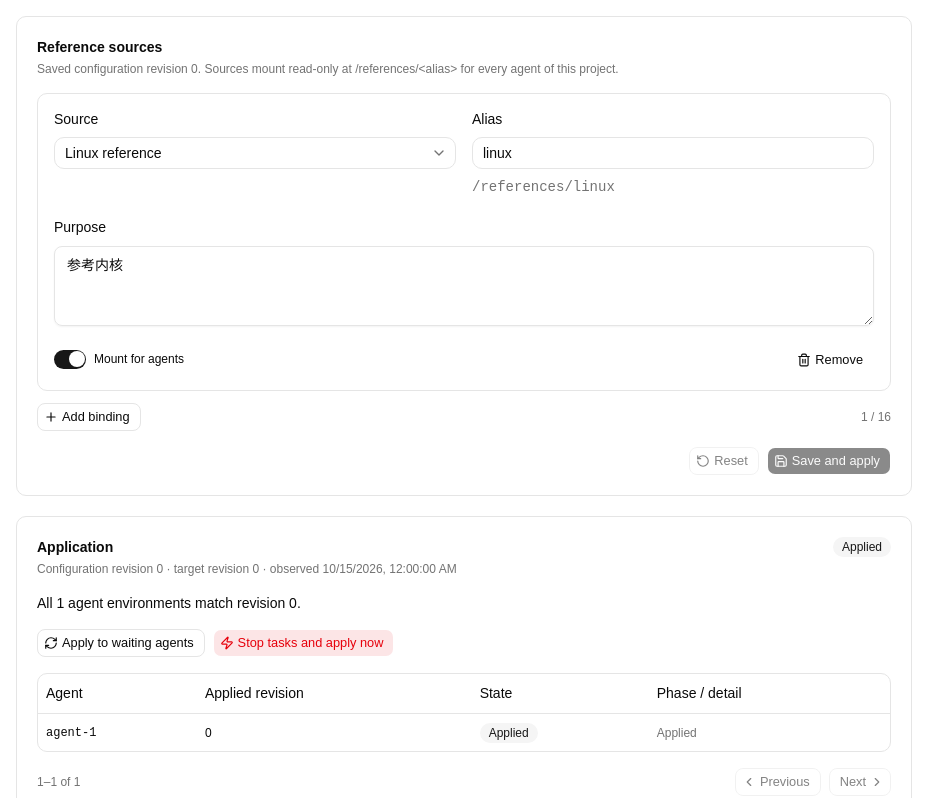
project references panel › saves the captured base revision and keeps the draft afterwards
The image size is (929, 798).
Replace the text in the field labelled "Alias" with "kernel" at coordinates (673, 153), box [472,137,874,169]
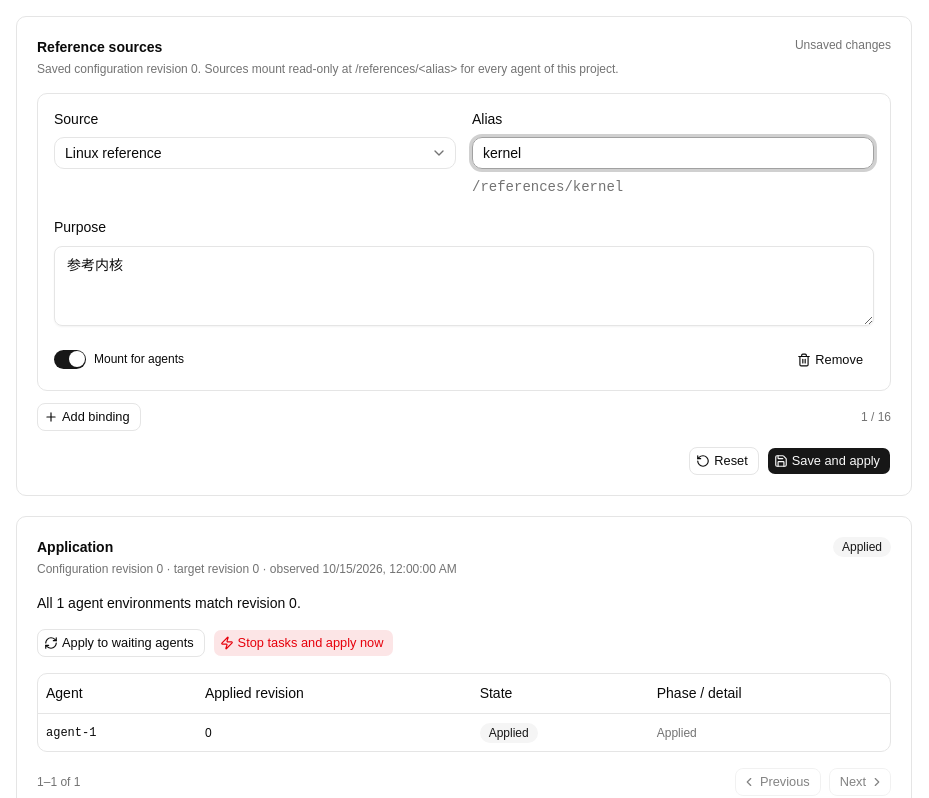
expect the text "Unsaved changes" is shown: met, box [795,37,891,53]
Click the button "Save and apply" at coordinates (829, 460), box [767,446,891,474]
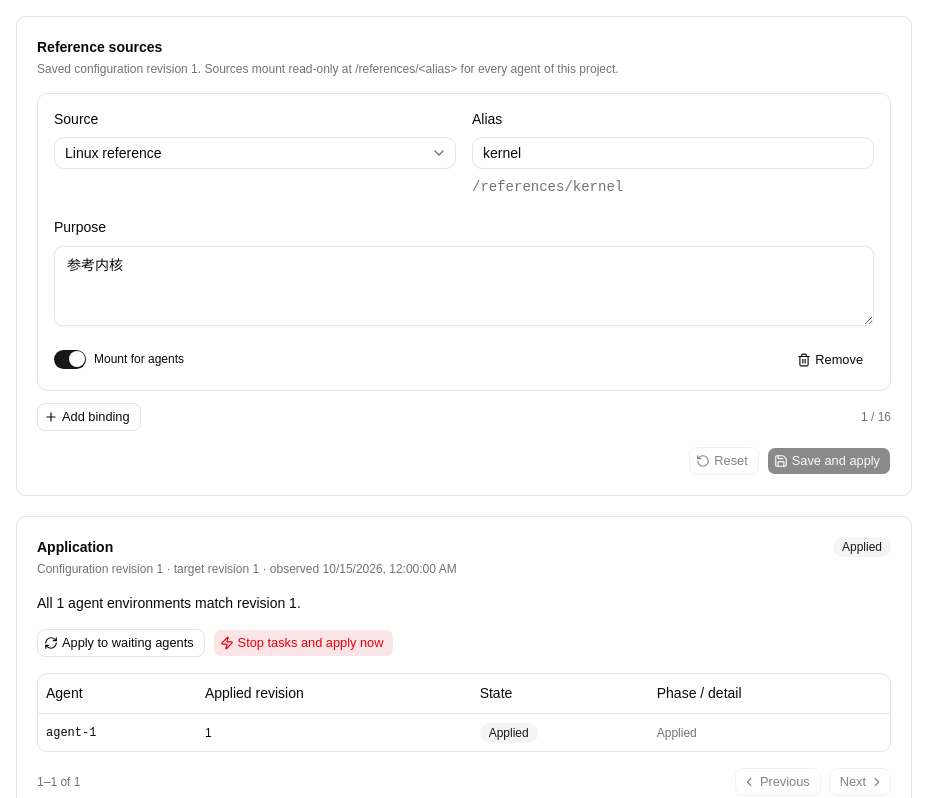
expect the text with test id "reference-draft-dirty" is gone: met
